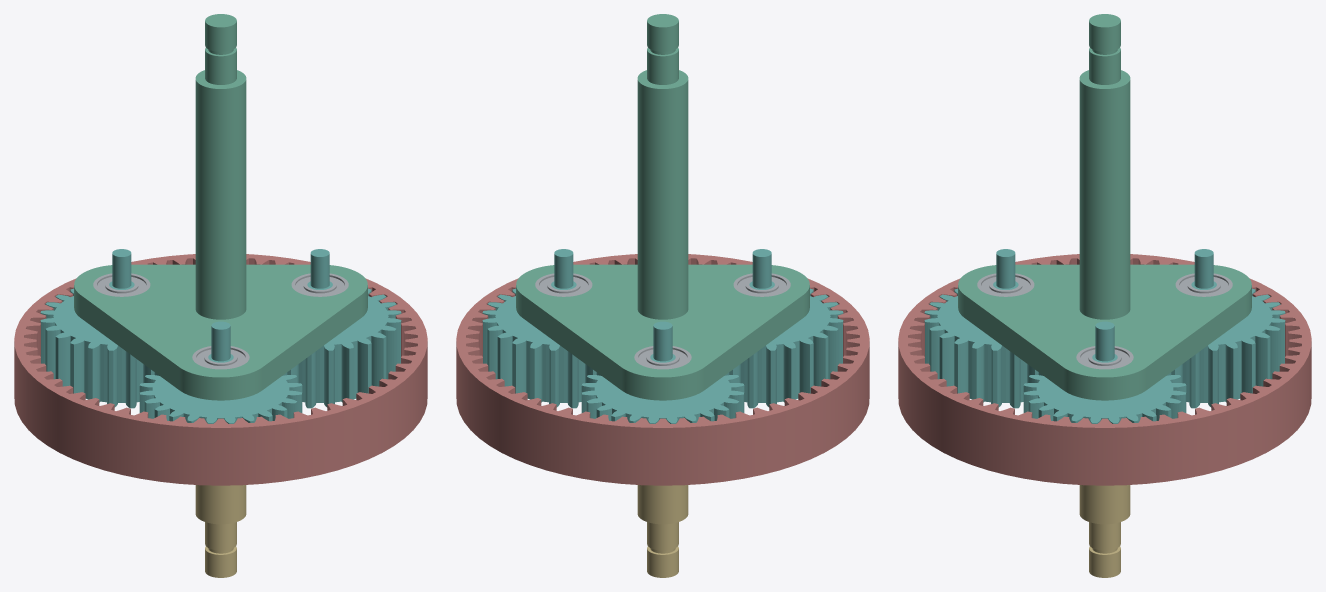
File: step_18.glb
3 views of the same model, side by side, from view 1: azimuth 30°, elevation 25°; view 2: azimuth 150°, elevation 25°; view 3: azimuth 270°, elevation 25° (orthographic).
Parts seen in each view (by area): view 1: part__carrier, part__ring gear, part__planet gear 1, part__planet gear 2, part__planet gear 3, part__sun gear, part__bearing 3, part__bearing 1, part__bearing 2; view 2: part__carrier, part__ring gear, part__planet gear 1, part__planet gear 3, part__planet gear 2, part__sun gear, part__bearing 2, part__bearing 1, part__bearing 3; view 3: part__carrier, part__ring gear, part__planet gear 2, part__planet gear 3, part__planet gear 1, part__sun gear, part__bearing 1, part__bearing 2, part__bearing 3.
Boxes of the visible parts, bbox=[...] form: part__carrier: bbox=[74, 14, 367, 400]; part__ring gear: bbox=[14, 254, 427, 485]; part__planet gear 1: bbox=[287, 249, 401, 408]; part__planet gear 2: bbox=[40, 249, 154, 408]; part__planet gear 3: bbox=[139, 321, 302, 423]; part__sun gear: bbox=[195, 485, 246, 577]; part__bearing 3: bbox=[192, 346, 249, 369]; part__bearing 1: bbox=[291, 273, 348, 296]; part__bearing 2: bbox=[93, 273, 150, 296]; part__carrier: bbox=[516, 14, 809, 400]; part__ring gear: bbox=[456, 254, 869, 485]; part__planet gear 1: bbox=[482, 249, 596, 408]; part__planet gear 3: bbox=[729, 249, 843, 408]; part__planet gear 2: bbox=[581, 321, 744, 423]; part__sun gear: bbox=[637, 485, 688, 577]; part__bearing 2: bbox=[634, 346, 691, 369]; part__bearing 1: bbox=[535, 273, 592, 296]; part__bearing 3: bbox=[733, 273, 790, 296]; part__carrier: bbox=[958, 14, 1251, 400]; part__ring gear: bbox=[898, 254, 1311, 485]; part__planet gear 2: bbox=[1171, 249, 1285, 408]; part__planet gear 3: bbox=[924, 249, 1038, 408]; part__planet gear 1: bbox=[1023, 321, 1186, 423]; part__sun gear: bbox=[1079, 485, 1130, 577]; part__bearing 1: bbox=[1076, 346, 1133, 369]; part__bearing 2: bbox=[1175, 273, 1232, 296]; part__bearing 3: bbox=[977, 273, 1034, 296].
Bounding box in the file's own units: 64.96 × 95.5 × 64.98.
